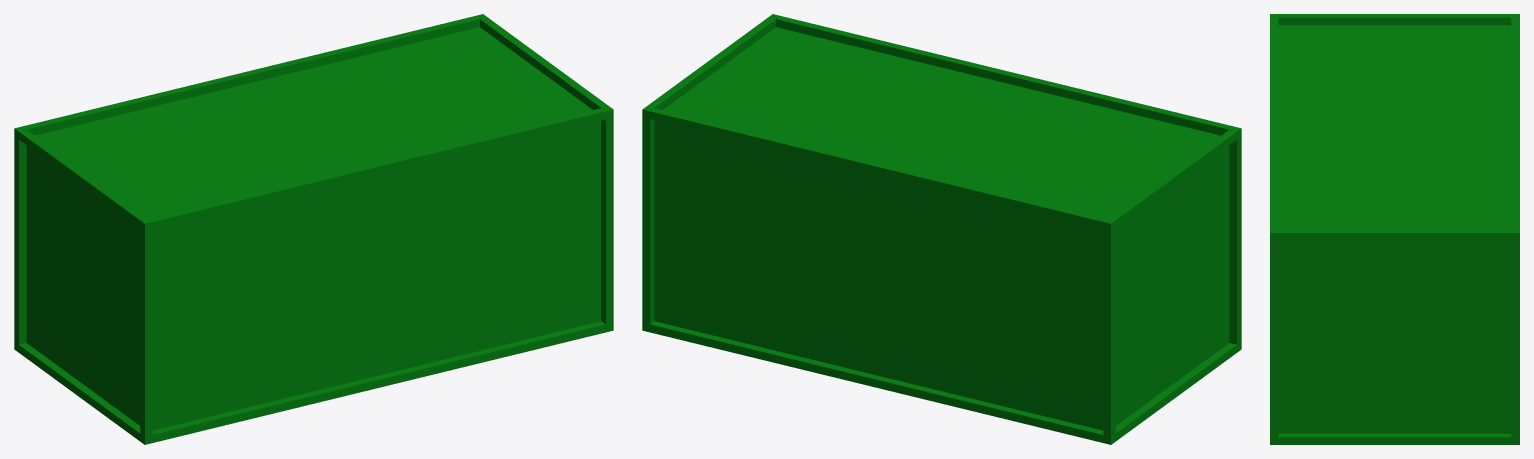
Rendered from container_stack_short.dae.
3 renders of one model, left to right at view 1: azimuth 30°, elevation 25°; view 2: azimuth 150°, elevation 25°; view 3: azimuth 270°, elevation 25°, orthographic. The views are drawn at different scales.
Parts seen in each view (by area): view 1: coords_ME_ID3_MA_Container_2, coords_ME_ID11_MA_Container_2, coords_ME_ID17_MA_Container_2; view 2: coords_ME_ID11_MA_Container_2, coords_ME_ID17_MA_Container_2; view 3: coords_ME_ID11_MA_Container_2, coords_ME_ID17_MA_Container_2.
Boxes of the visible parts, x1,y1,x2,y2 form: coords_ME_ID3_MA_Container_2: (152,119,605,434); coords_ME_ID11_MA_Container_2: (19,19,600,433); coords_ME_ID17_MA_Container_2: (14,14,613,444); coords_ME_ID11_MA_Container_2: (650,19,1236,434); coords_ME_ID17_MA_Container_2: (642,14,1241,444); coords_ME_ID11_MA_Container_2: (1278,17,1511,437); coords_ME_ID17_MA_Container_2: (1270,14,1519,444).
Bounding box in the file's own units: 61 × 27.5 × 29.4.
